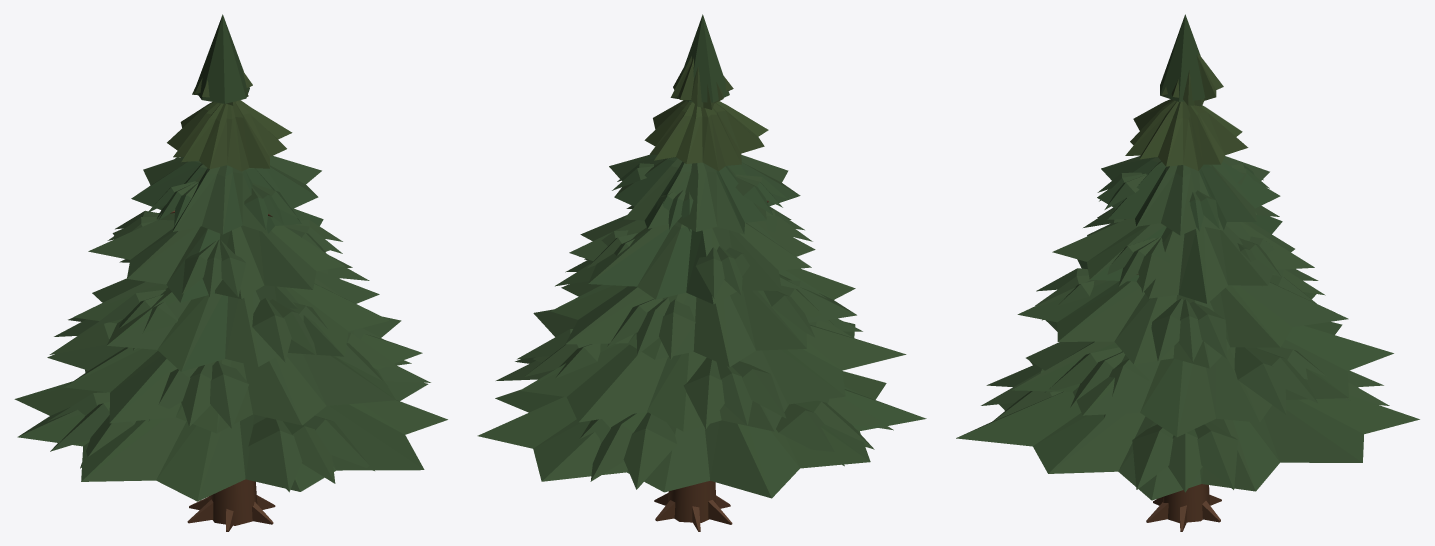
Rendered from tree_pine_b.glb.
3 renders of one model, left to right at view 1: azimuth 30°, elevation 25°; view 2: azimuth 150°, elevation 25°; view 3: azimuth 270°, elevation 25°, orthographic.
Visible parts, largest first — view 1: tree_pine_b_LOD0; view 2: tree_pine_b_LOD0; view 3: tree_pine_b_LOD0.
Part boxes in pixels (x1,y1,x2,y2): tree_pine_b_LOD0: [14, 14, 447, 531]; tree_pine_b_LOD0: [477, 14, 926, 531]; tree_pine_b_LOD0: [956, 14, 1419, 531].
Size of what is drawn, in the model's own units: 4.94 by 6.32 by 5.38.
